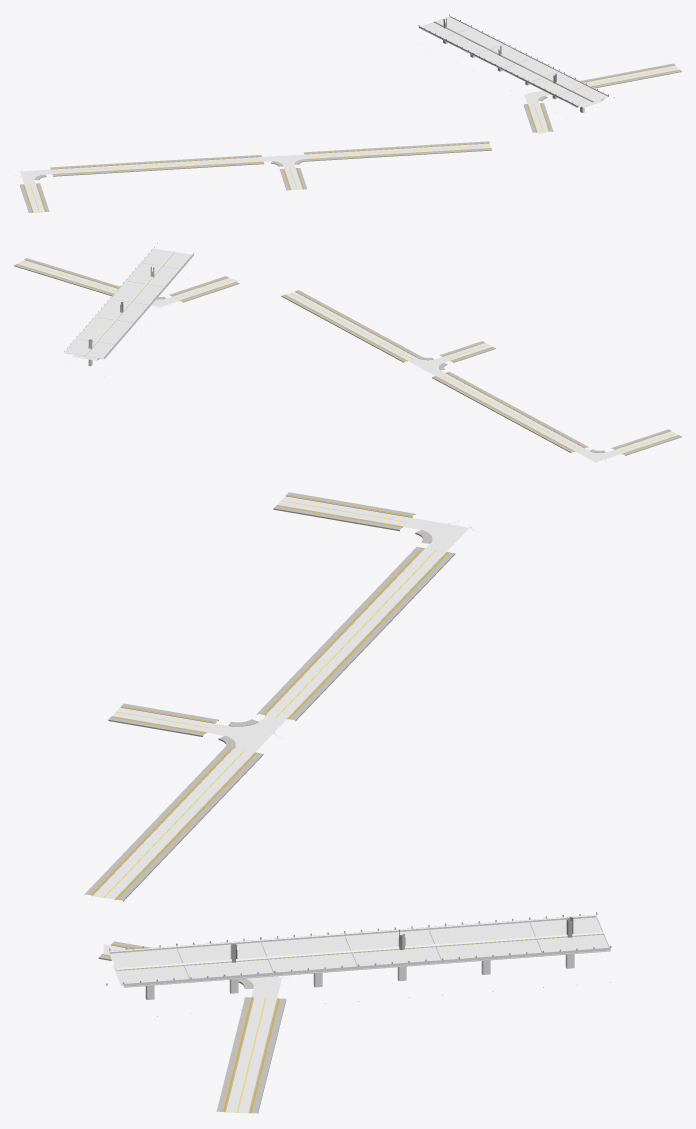
File: roads_-4_-3.gltf
3 renders of one model, top to bottom at view 1: azimuth 30°, elevation 25°; view 2: azimuth 150°, elevation 25°; view 3: azimuth 270°, elevation 25°, orthographic. The views are drawn at different scales.
Visible parts, largest first — view 1: roads_-4_-3_SH_wet_asphalt, roads_-4_-3_SH_concrete_pier, roads_-4_-3_SH_sidewalk, roads_-4_-3_Road_Tactile_Strip, roads_-4_-3_SH_kerb, roads_-4_-3_SH_concrete_barrier, roads_-4_-3_SH_road_marking_white, roads_-4_-3_SH_road_marking_yellow; view 2: roads_-4_-3_SH_wet_asphalt, roads_-4_-3_SH_concrete_pier, roads_-4_-3_SH_sidewalk, roads_-4_-3_Road_Tactile_Strip, roads_-4_-3_SH_kerb, roads_-4_-3_SH_concrete_barrier, roads_-4_-3_SH_road_marking_white, roads_-4_-3_SH_road_marking_yellow; view 3: roads_-4_-3_SH_wet_asphalt, roads_-4_-3_SH_concrete_pier, roads_-4_-3_SH_sidewalk, roads_-4_-3_SH_concrete_barrier, roads_-4_-3_Road_Tactile_Strip, roads_-4_-3_SH_road_marking_white, roads_-4_-3_SH_kerb, roads_-4_-3_SH_road_marking_yellow.
Boxes of the visible parts, x1,y1,x2,y2 form: roads_-4_-3_SH_wet_asphalt: (20, 17, 679, 212); roads_-4_-3_SH_concrete_pier: (419, 17, 607, 112); roads_-4_-3_SH_sidewalk: (19, 63, 681, 212); roads_-4_-3_Road_Tactile_Strip: (23, 64, 680, 212); roads_-4_-3_SH_kerb: (24, 65, 679, 212); roads_-4_-3_SH_concrete_barrier: (419, 15, 608, 107); roads_-4_-3_SH_road_marking_white: (14, 17, 672, 212); roads_-4_-3_SH_road_marking_yellow: (29, 23, 674, 212); roads_-4_-3_SH_wet_asphalt: (17, 249, 677, 462); roads_-4_-3_SH_concrete_pier: (64, 249, 194, 366); roads_-4_-3_SH_sidewalk: (14, 258, 681, 455); roads_-4_-3_Road_Tactile_Strip: (16, 259, 679, 453); roads_-4_-3_SH_kerb: (17, 259, 678, 454); roads_-4_-3_SH_concrete_barrier: (64, 247, 193, 358); roads_-4_-3_SH_road_marking_white: (24, 249, 665, 463); roads_-4_-3_SH_road_marking_yellow: (21, 253, 674, 451); roads_-4_-3_SH_wet_asphalt: (93, 496, 607, 1113); roads_-4_-3_SH_concrete_pier: (110, 917, 610, 999); roads_-4_-3_SH_sidewalk: (84, 492, 455, 1113); roads_-4_-3_SH_concrete_barrier: (109, 915, 610, 986); roads_-4_-3_Road_Tactile_Strip: (91, 494, 448, 1113); roads_-4_-3_SH_road_marking_white: (94, 496, 605, 1112); roads_-4_-3_SH_kerb: (92, 495, 446, 1112); roads_-4_-3_SH_road_marking_yellow: (103, 500, 603, 1112).
Size of what is drawn, in the model's own units: 517 by 19.98 by 185.
